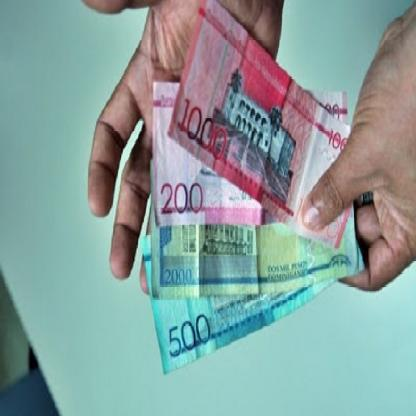billete: (142, 0, 366, 374)
